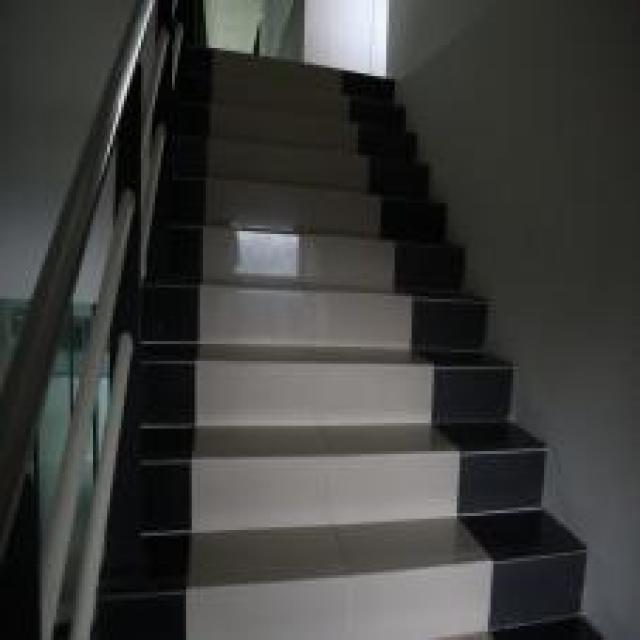upstair: (193, 38, 461, 638)
